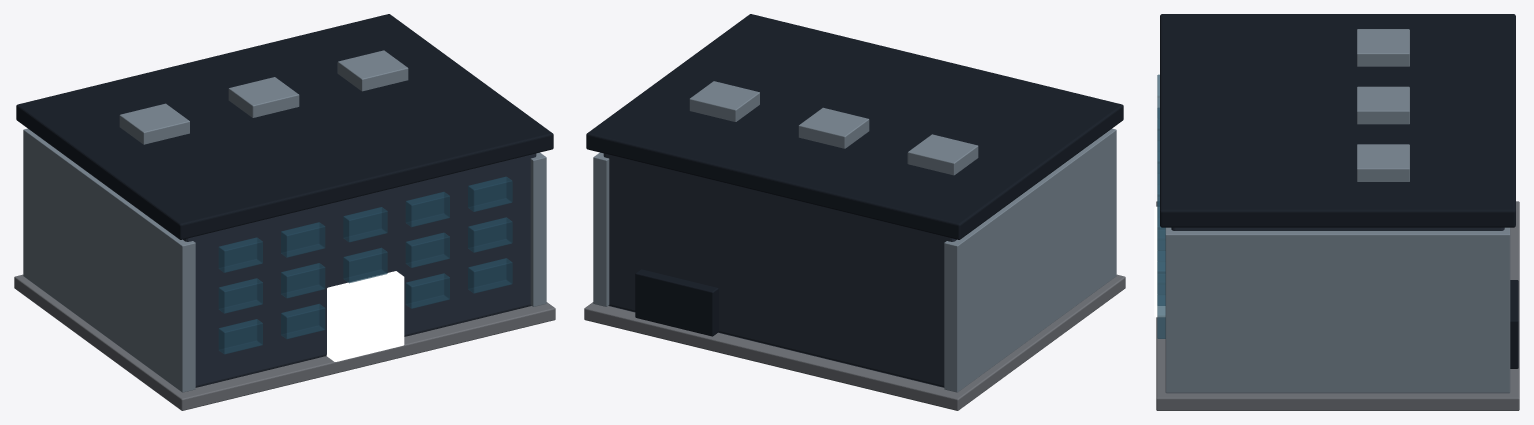
File: building_pulsefit_sign_v01.glb
3 renders of one model, left to right at view 1: azimuth 30°, elevation 25°; view 2: azimuth 150°, elevation 25°; view 3: azimuth 270°, elevation 25°, orthographic. The views are drawn at different scales.
Visible parts, largest first — view 1: component__roof_line__roof_line, component__primary_massing__primary_massing, component__facade_material_breaks__facade_break.001, component__foundation__foundation, component__entrance__entrance, component__facade_material_breaks__facade_break, component__roof_line__rooftop_service.002, component__roof_line__rooftop_service, component__roof_line__rooftop_service.001, component__window_system__window.002, component__window_system__window.005, component__window_system__window.007 (+11 smaller); view 2: component__roof_line__roof_line, component__primary_massing__primary_massing, component__facade_material_breaks__facade_break.001, component__foundation__foundation, component__service_side__service_side, component__facade_material_breaks__facade_break, component__roof_line__rooftop_service.002, component__roof_line__rooftop_service.001, component__roof_line__rooftop_service; view 3: component__roof_line__roof_line, component__facade_material_breaks__facade_break, component__foundation__foundation, component__roof_line__rooftop_service.002, component__roof_line__rooftop_service.001, component__roof_line__rooftop_service, component__primary_massing__primary_massing, component__service_side__service_side, component__entrance__entrance, component__window_system__window.005, component__window_system__window.010.
Boxes of the visible parts, box(x1,y1,x2,y2) form: component__roof_line__roof_line: box(16, 14, 553, 239); component__primary_massing__primary_massing: box(183, 153, 536, 387); component__facade_material_breaks__facade_break.001: box(23, 128, 195, 392); component__foundation__foundation: box(14, 274, 555, 410); component__entrance__entrance: box(326, 271, 404, 361); component__facade_material_breaks__facade_break: box(530, 152, 546, 306); component__roof_line__rooftop_service.002: box(228, 77, 299, 117); component__roof_line__rooftop_service: box(337, 50, 408, 91); component__roof_line__rooftop_service.001: box(119, 103, 189, 144); component__window_system__window.002: box(281, 303, 325, 339); component__window_system__window.005: box(468, 258, 512, 293); component__window_system__window.007: box(281, 263, 325, 298); component__roof_line__roof_line: box(586, 14, 1123, 239); component__primary_massing__primary_massing: box(603, 153, 956, 387); component__facade_material_breaks__facade_break.001: box(944, 128, 1116, 392); component__foundation__foundation: box(584, 274, 1125, 410); component__service_side__service_side: box(635, 269, 718, 336); component__facade_material_breaks__facade_break: box(593, 152, 609, 306); component__roof_line__rooftop_service.002: box(798, 107, 869, 148); component__roof_line__rooftop_service.001: box(907, 134, 978, 175); component__roof_line__rooftop_service: box(689, 81, 759, 121); component__roof_line__roof_line: box(1160, 14, 1515, 227); component__facade_material_breaks__facade_break: box(1165, 227, 1510, 393); component__foundation__foundation: box(1156, 201, 1519, 410); component__roof_line__rooftop_service.002: box(1357, 86, 1409, 124); component__roof_line__rooftop_service.001: box(1357, 29, 1409, 66); component__roof_line__rooftop_service: box(1357, 144, 1409, 181); component__primary_massing__primary_massing: box(1171, 227, 1504, 230); component__service_side__service_side: box(1510, 280, 1518, 368); component__entrance__entrance: box(1154, 206, 1165, 317); component__window_system__window.005: box(1157, 294, 1165, 338); component__window_system__window.010: box(1157, 250, 1165, 294).
Bounding box in the file's own units: 17.28 × 8.73 × 13.51.
